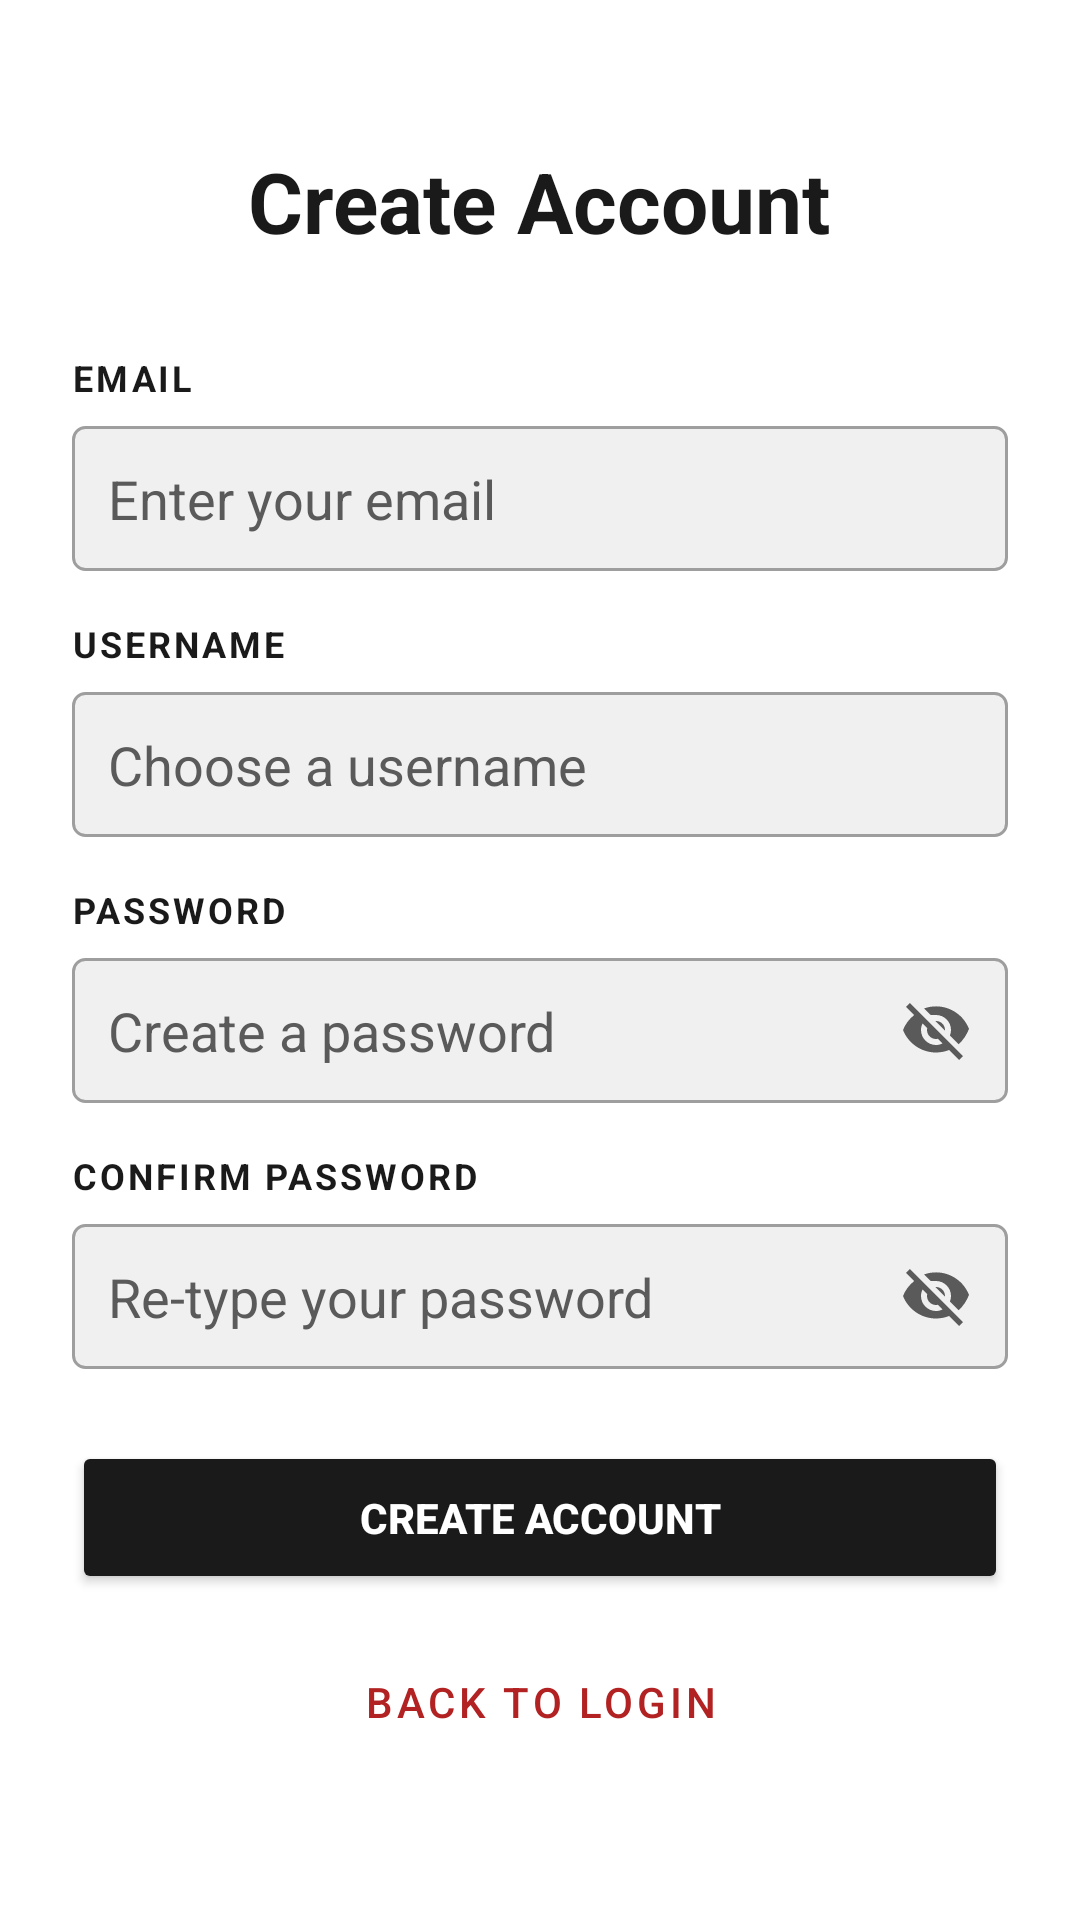

Where to tap for icons on this 1080w x 1920h app screen, as point (x, y):
Toggle Password Visibility: point (936, 1031), point (936, 1297)
